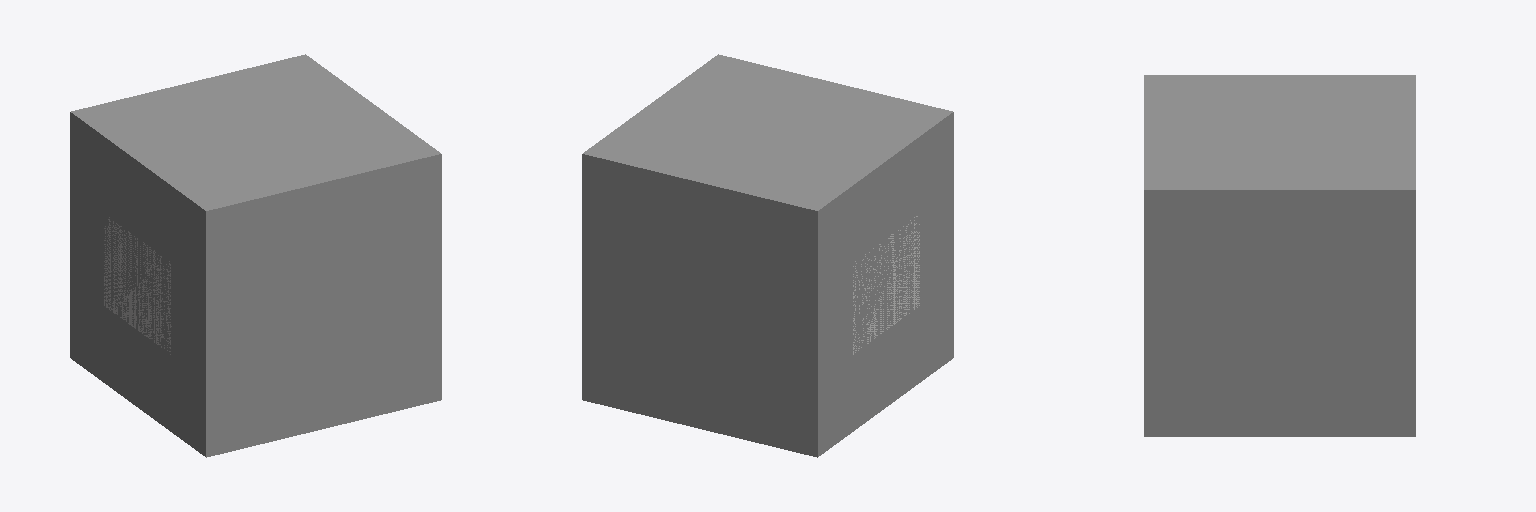
The picture shows the model from 3 angles: view 1: azimuth 30°, elevation 25°; view 2: azimuth 150°, elevation 25°; view 3: azimuth 270°, elevation 25°; orthographic projection.
Visible parts, largest first — view 1: Minecraft_Block_Cube, main; view 2: Minecraft_Block_Cube, main; view 3: Minecraft_Block_Cube.
Boxes of the visible parts, x1=… form: Minecraft_Block_Cube: x1=70, y1=54, x2=441, y2=457; main: x1=104, y1=217, x2=171, y2=354; Minecraft_Block_Cube: x1=582, y1=54, x2=953, y2=457; main: x1=853, y1=216, x2=919, y2=354; Minecraft_Block_Cube: x1=1144, y1=75, x2=1415, y2=436.
Bounding box in the file's own units: 1 × 1 × 1.
Materials: 2 (1 with a texture image).